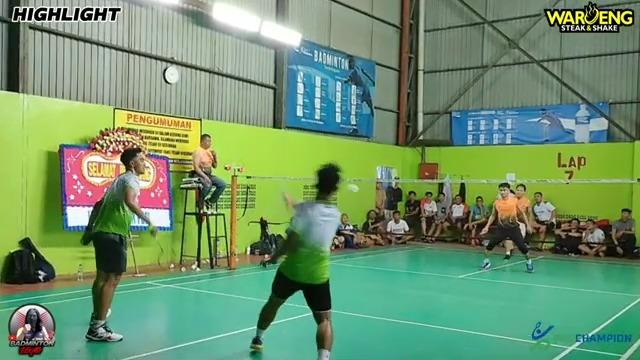Shuttlecock: (349, 182, 359, 196)
